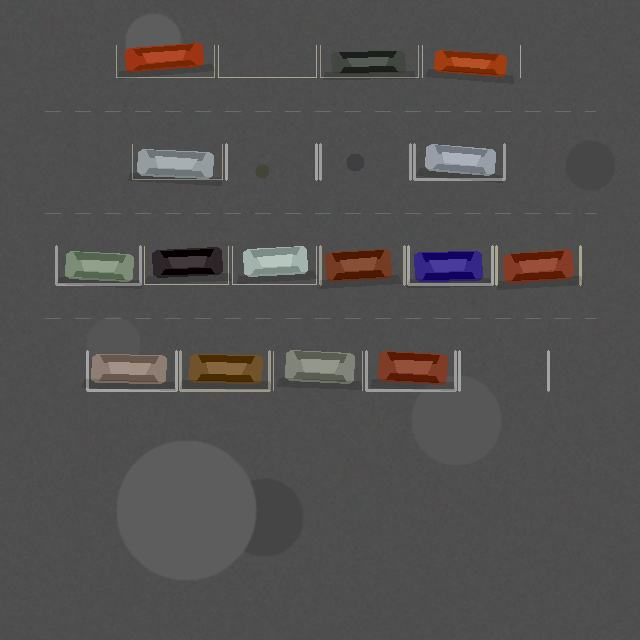space-empty: (459, 351, 548, 390), (226, 144, 316, 179), (320, 144, 410, 179), (218, 45, 316, 77)
space-occupied: (87, 351, 176, 390), (180, 351, 269, 390), (273, 351, 362, 390), (366, 351, 455, 390), (56, 246, 140, 284), (144, 246, 228, 284), (232, 246, 316, 284), (320, 246, 404, 284), (408, 246, 492, 284), (496, 246, 580, 284), (132, 144, 222, 179), (414, 144, 504, 179), (116, 45, 214, 77), (320, 45, 418, 77), (422, 45, 520, 77)
